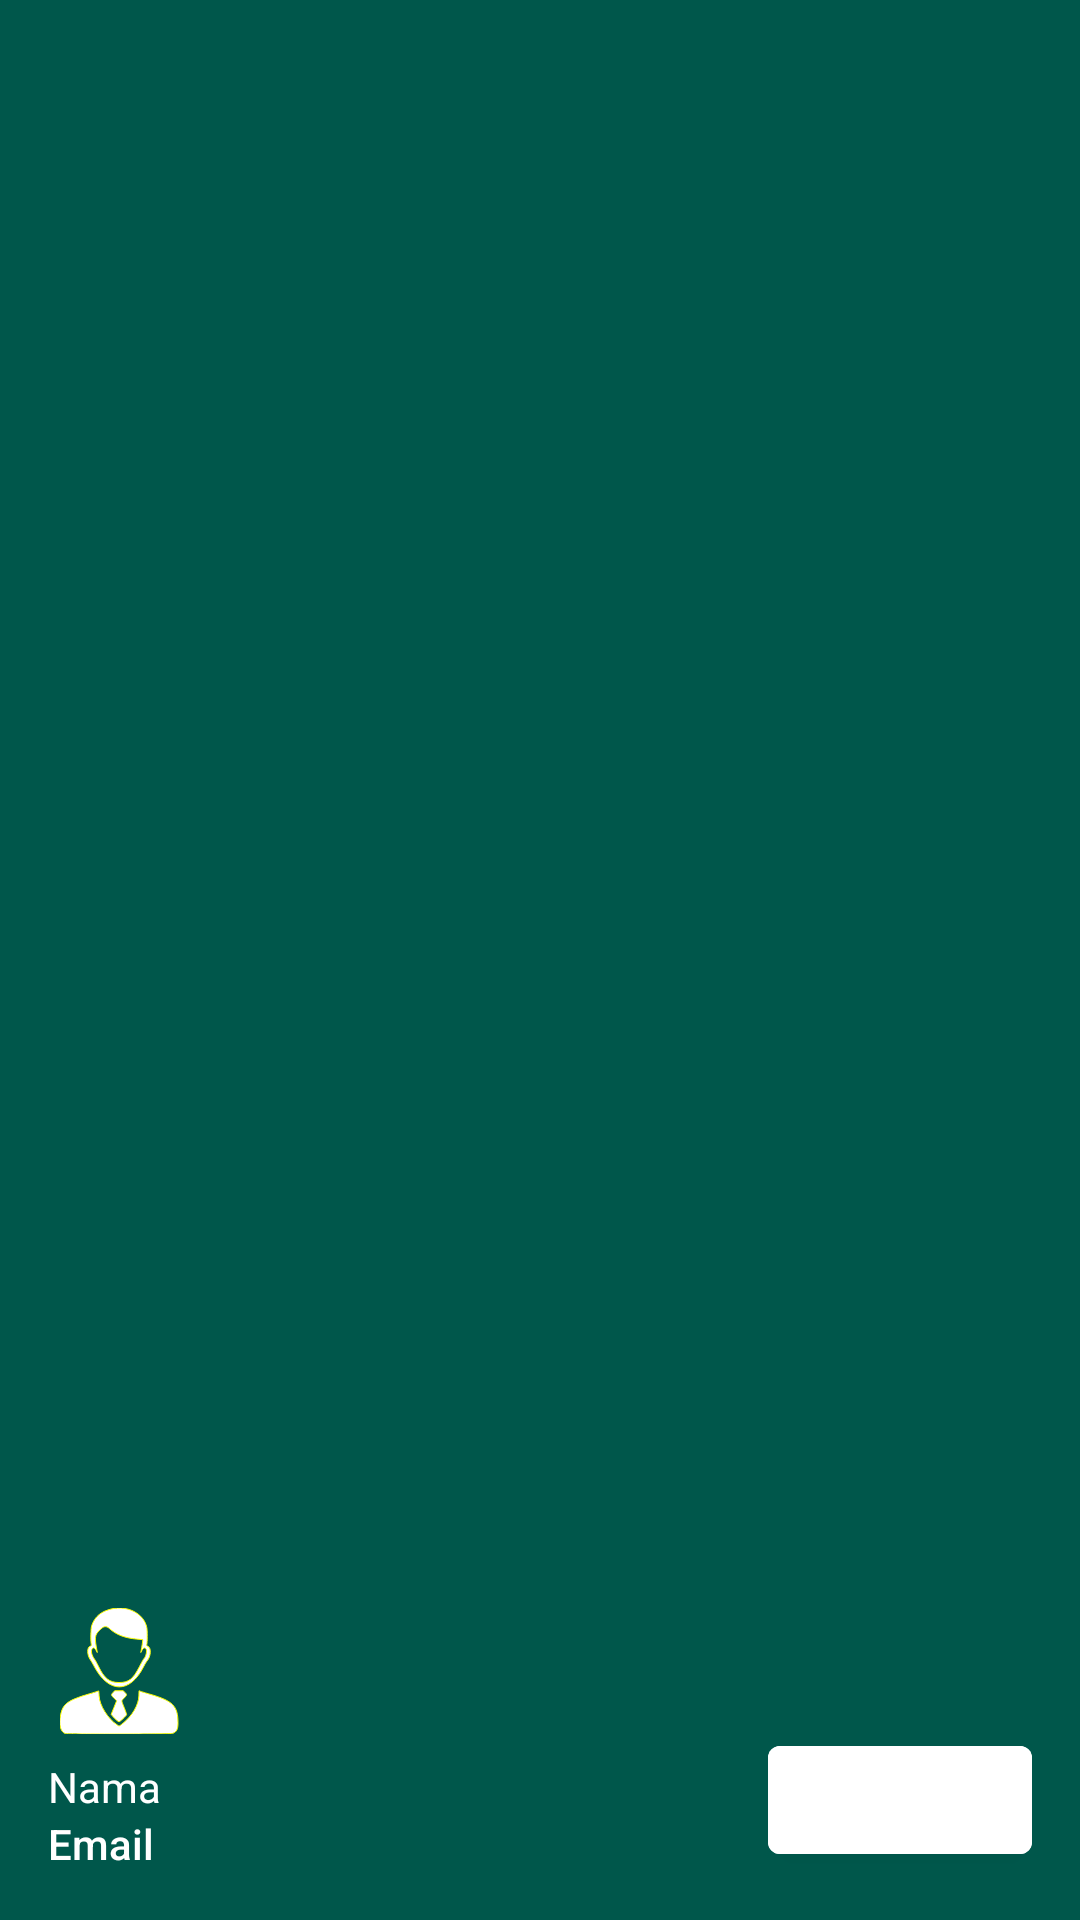

Screen size 1080*1920. Icon name, then its center in pixels as (x=x, y=y):
user: (x=119, y=1671)
